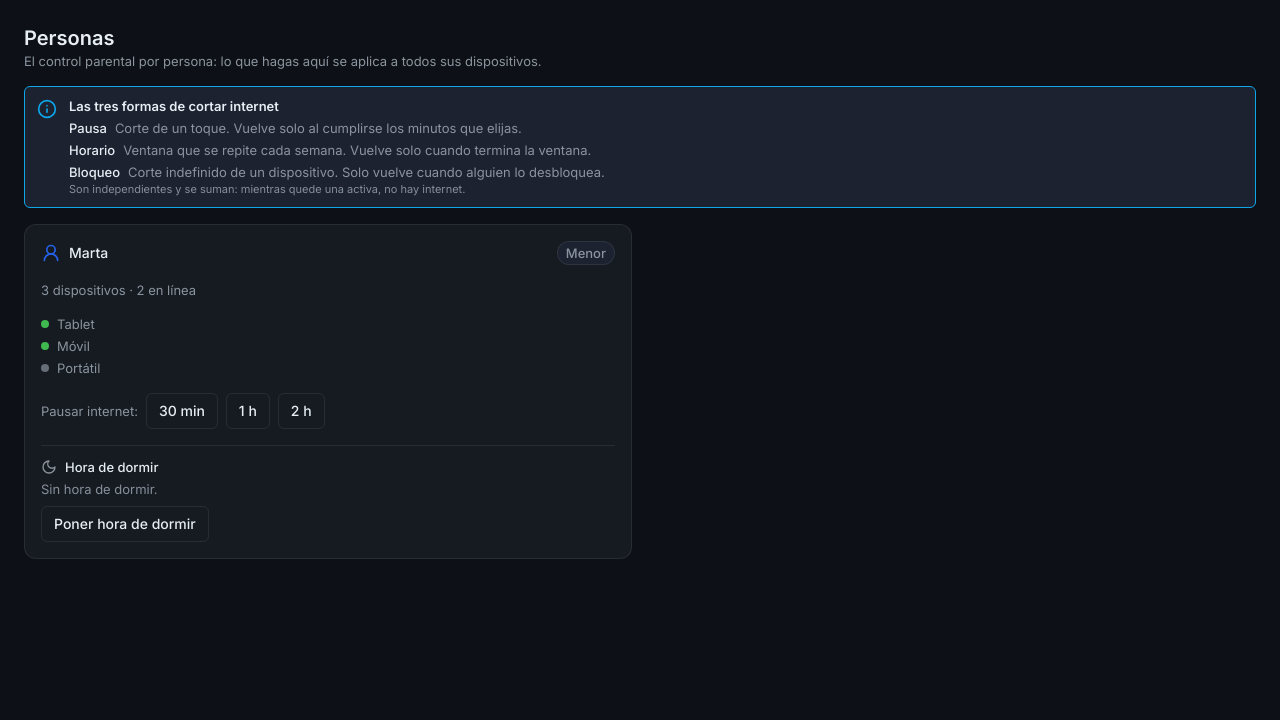
Test: PeoplePage (US-240) › guarda una hora de dormir nueva para toda la persona
The width and height of the screenshot is (1280, 720).
Expected: the heading "Marta" is shown, [69, 244, 108, 261]
Click the button "Poner hora de dormir" at (125, 524), box [41, 506, 209, 542]
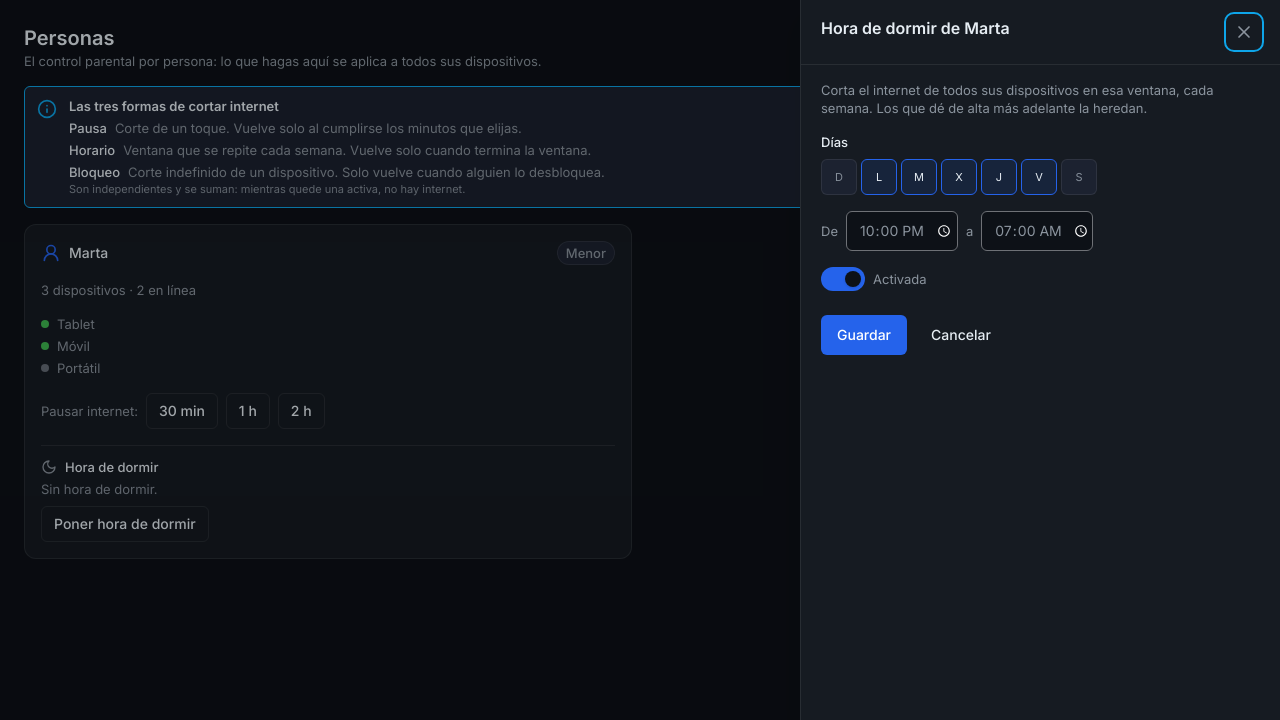
Click the button "Guardar" at (864, 335), box [821, 315, 907, 355]
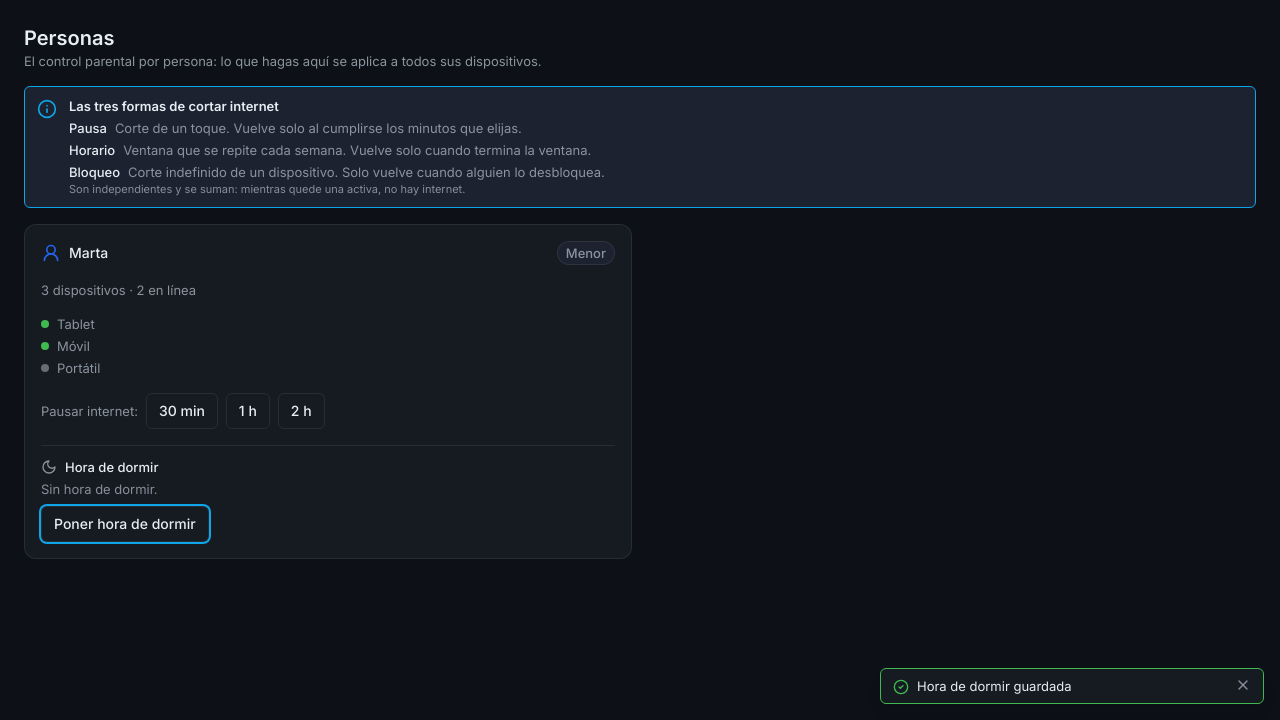
Expected: the text "Hora de dormir guardada" is shown, [917, 678, 1072, 694]
